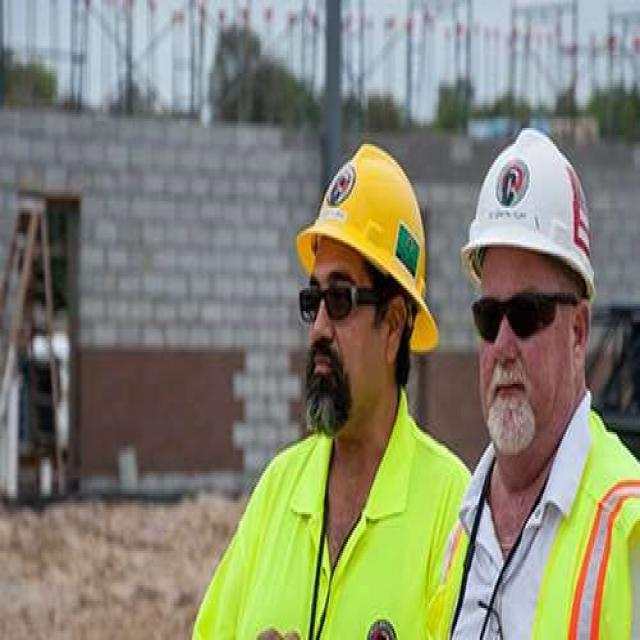Reflective-Jacket: (190, 416, 470, 640), (439, 420, 640, 640)
Safety-Helmet: (293, 139, 443, 350), (460, 121, 599, 300)
